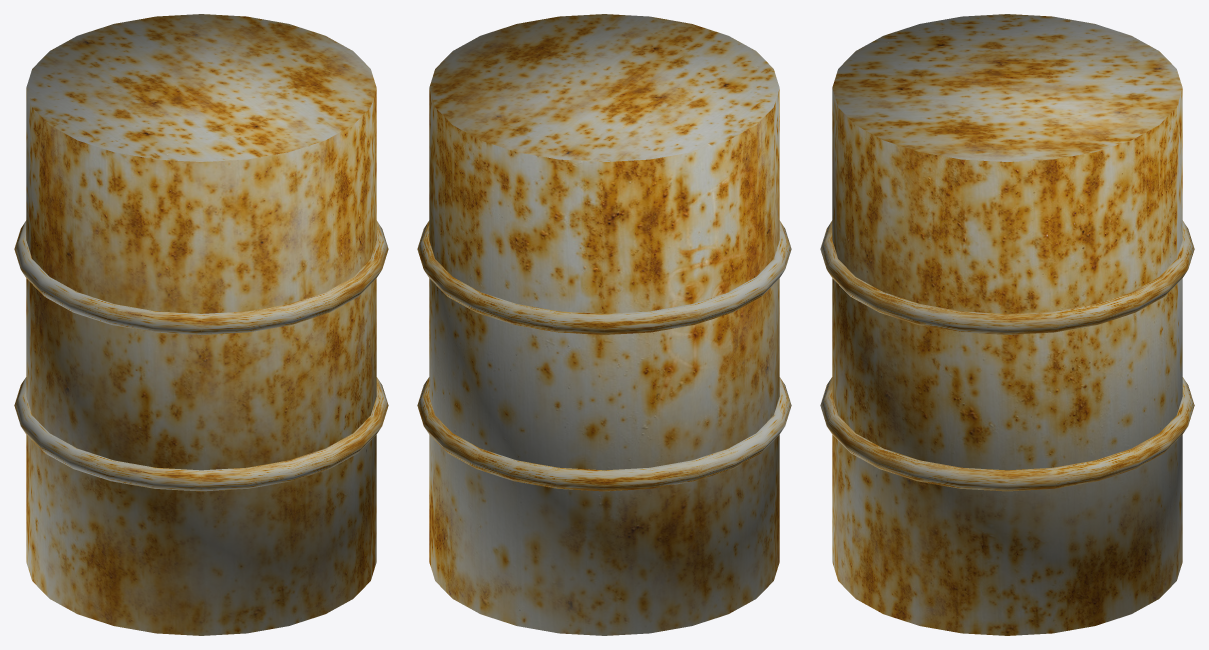
The model's file is barrel_explosive.glb.
3 views of the same model, side by side, from view 1: azimuth 30°, elevation 25°; view 2: azimuth 150°, elevation 25°; view 3: azimuth 270°, elevation 25° (orthographic).
Parts seen in each view (by area): view 1: barrel_explosive; view 2: barrel_explosive; view 3: barrel_explosive.
Part boxes in pixels (<box>): barrel_explosive: <box>14,14,388,635</box>; barrel_explosive: <box>417,14,791,635</box>; barrel_explosive: <box>820,14,1194,635</box>.
Size of the model in its own units: 0.63 by 0.88 by 0.63.
1 material, 1 textured.
